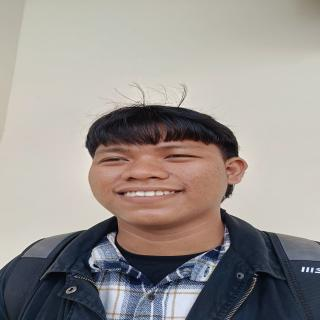Senang: (77, 129, 228, 232)
